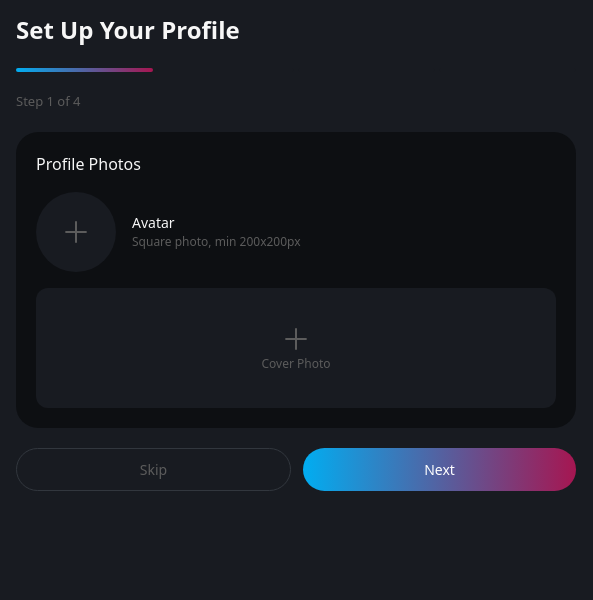
Scenario: Onboarding page › should advance to step 2 when Next clicked
This screenshot has width=593, height=600.
Click the button "Next".
click(440, 469)  # box [303, 448, 576, 490]
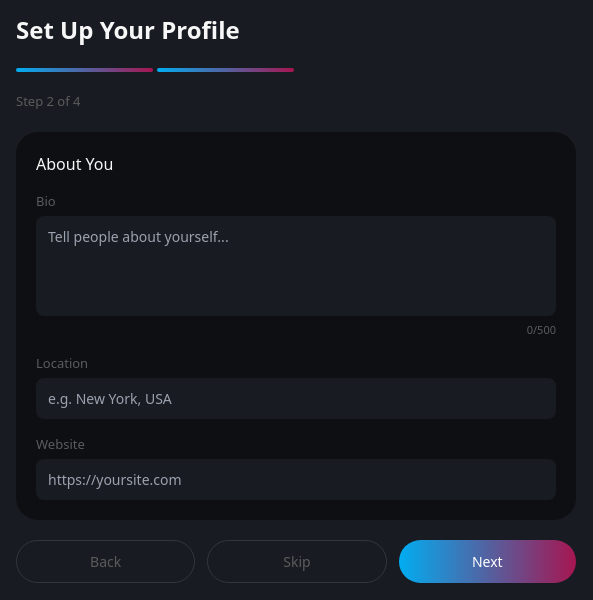
Check: the text "Step 2 of 4" is shown, box [16, 92, 80, 110]
